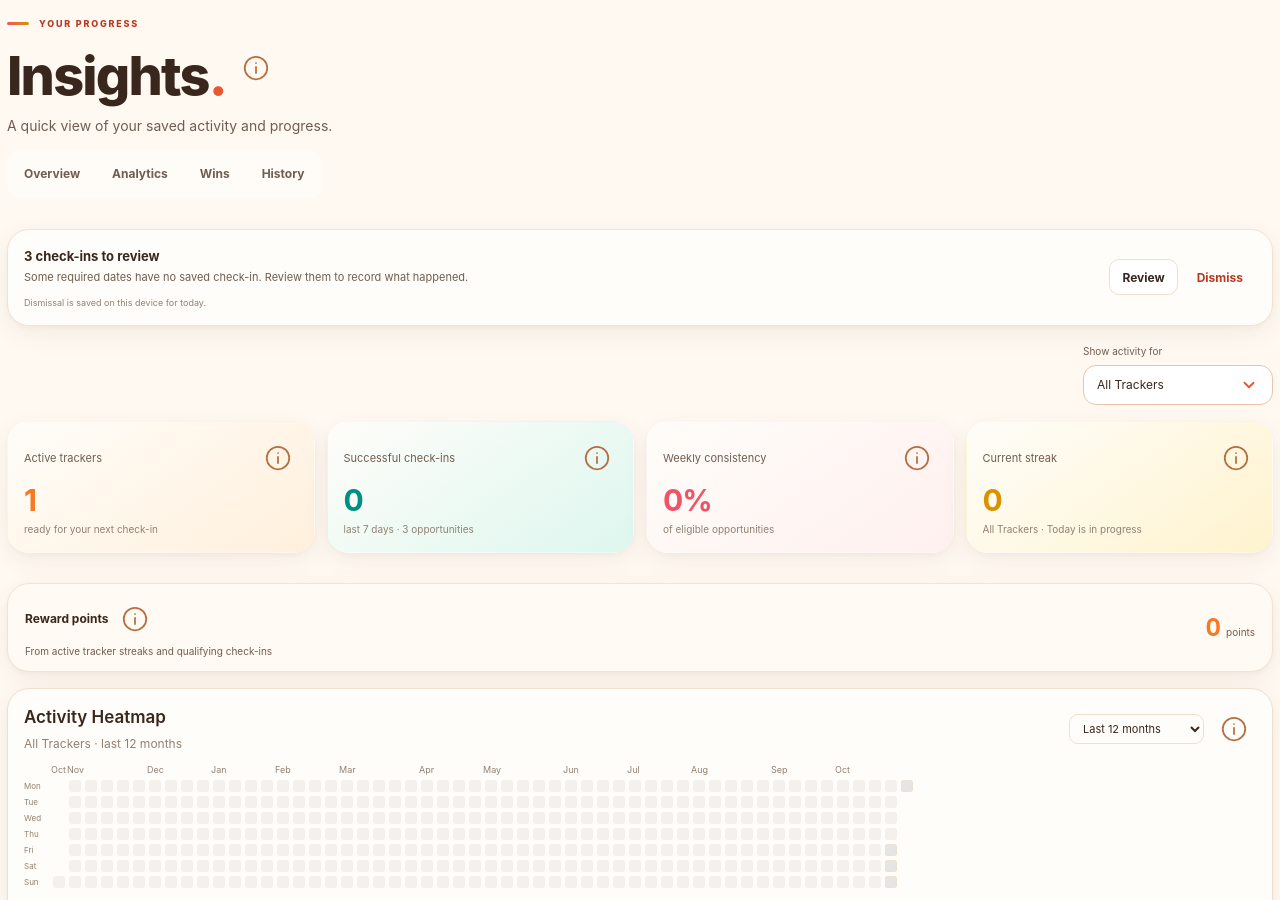
Test: local progress dashboard › shows one grouped review reminder, dismisses it for today, and keeps the missing count in History navigation
Expected: the text "Missing check-in reminder" shows "Some required dates have no saved check-in.", [24, 270, 468, 284]
Click the button "Dismiss" at [1220, 278], box [1184, 260, 1256, 296]
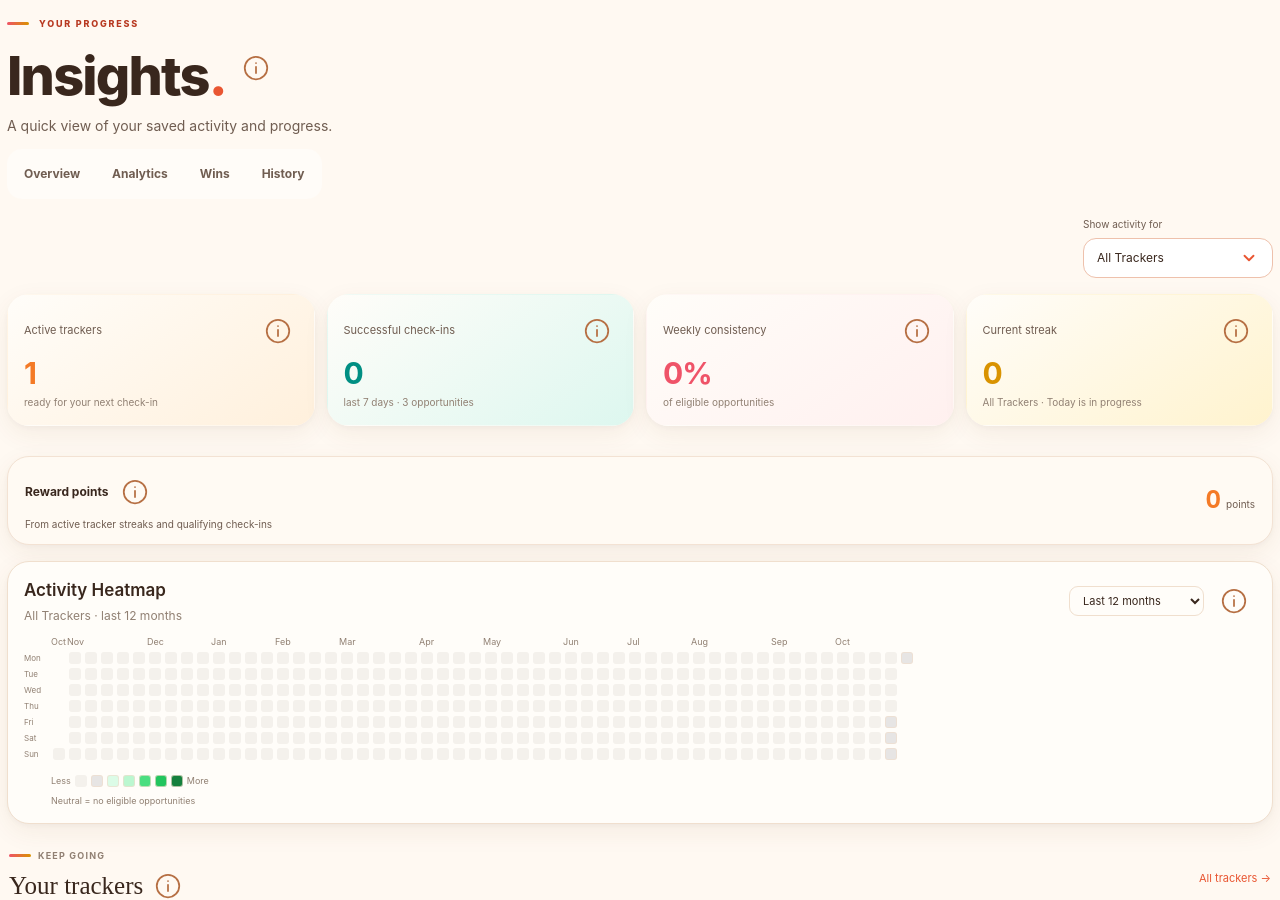
Expected: the text "3 check-ins to review" is gone
